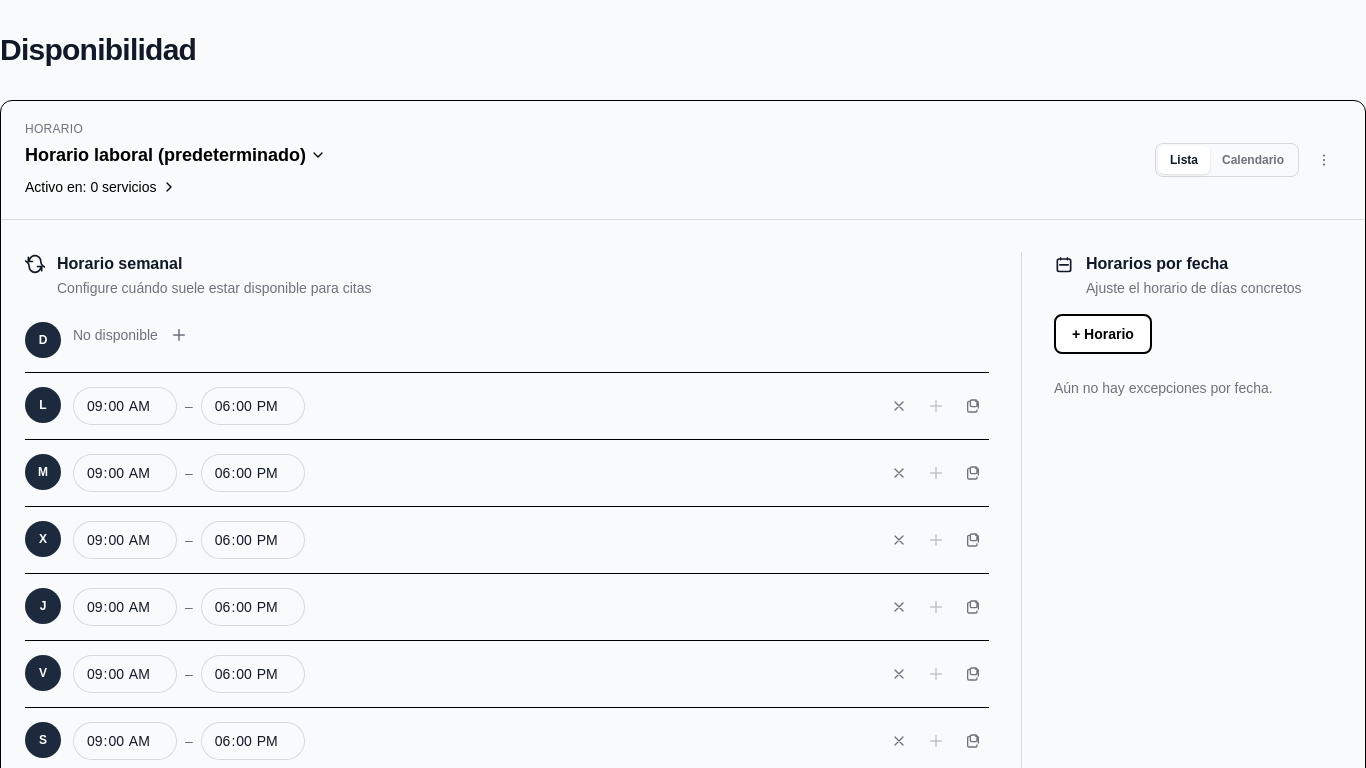
Test case: AdminAvailabilityPage › submits a closed exception and handles POST errors
Click the button "+ Horario" at (1103, 334), box [1054, 314, 1152, 354]
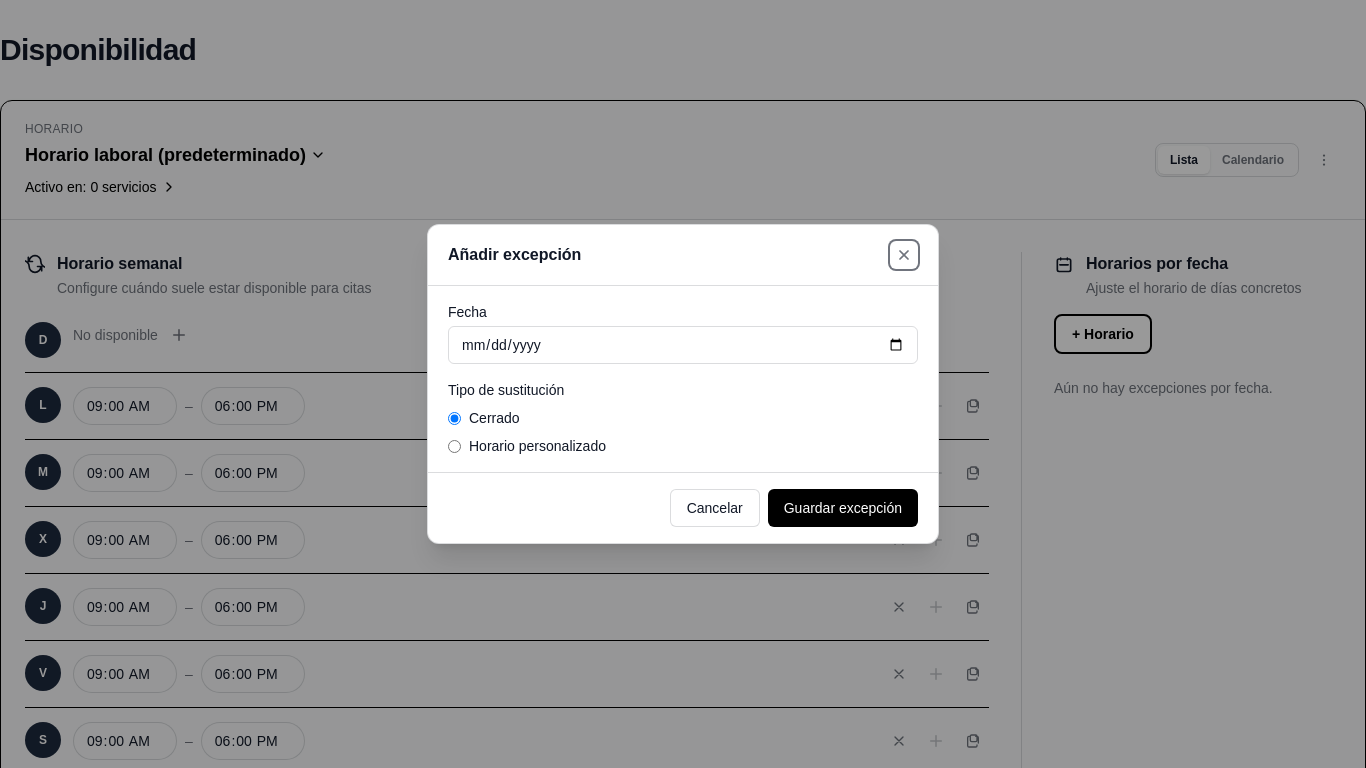
Type "2026-10-01" into the date field labelled "Fecha" at (683, 345), box [448, 326, 918, 364]
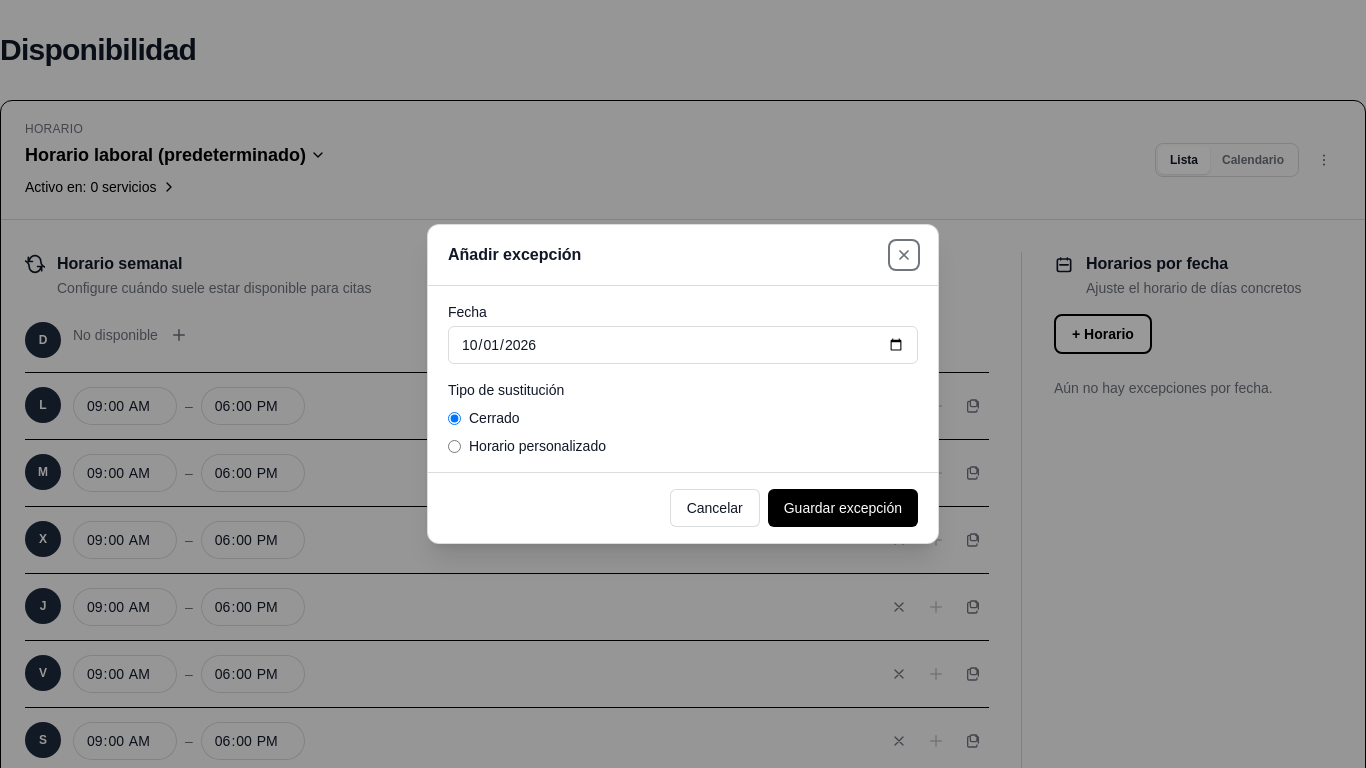
Click the button "Guardar excepción" at (843, 508), box [768, 489, 918, 527]
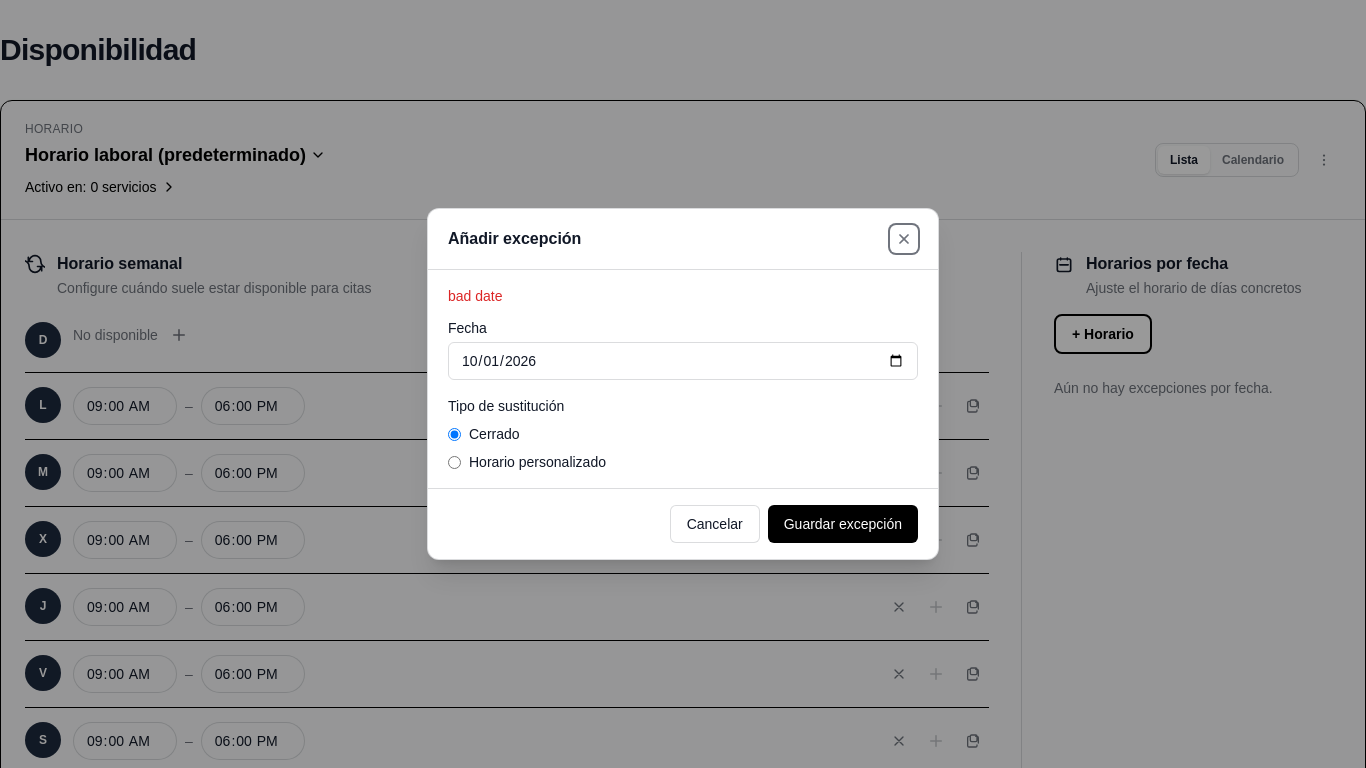
Now the text "bad date" is shown, box [448, 288, 502, 304]
Click the button "Guardar excepción" at (843, 524), box [768, 505, 918, 543]
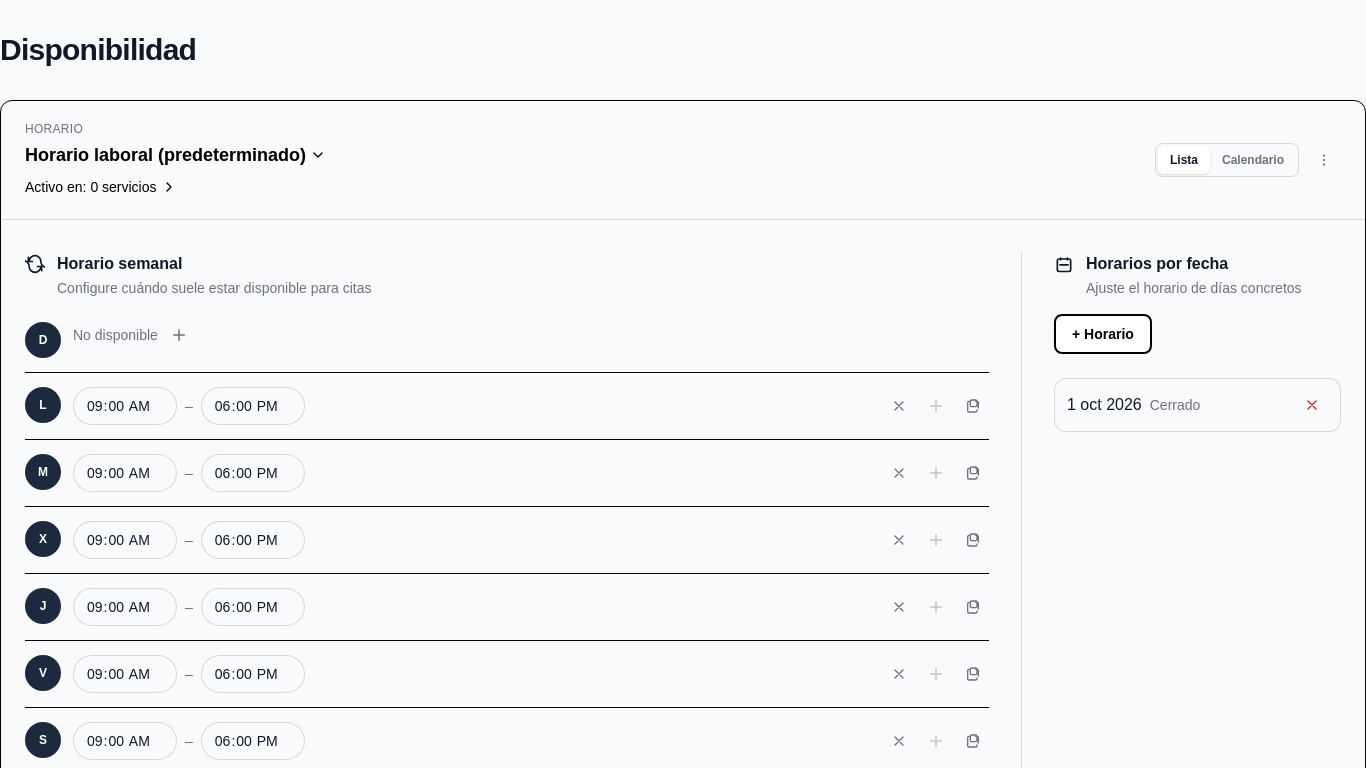
Now the heading "Añadir excepción" is gone
